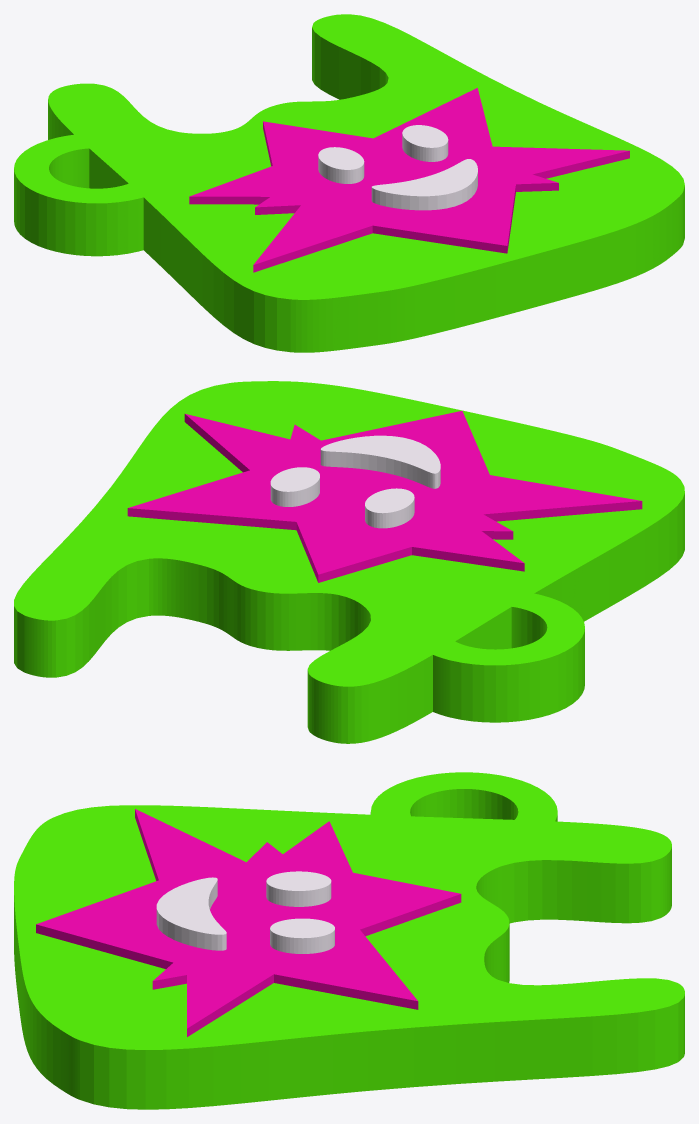
File: keychaintui.glb
3 views of the same model, one above another, from view 1: azimuth 30°, elevation 25°; view 2: azimuth 150°, elevation 25°; view 3: azimuth 270°, elevation 25° (orthographic). The views are drawn at different scales.
Parts seen in each view (by area): view 1: Curve.160; view 2: Curve.160; view 3: Curve.160.
Part boxes in pixels (box(x1,y1,x2,y2)): Curve.160: box(14, 14, 684, 352); Curve.160: box(14, 381, 684, 743); Curve.160: box(14, 772, 684, 1109).
Size of the model in its own units: 0.0441 by 0.00623 by 0.045.
